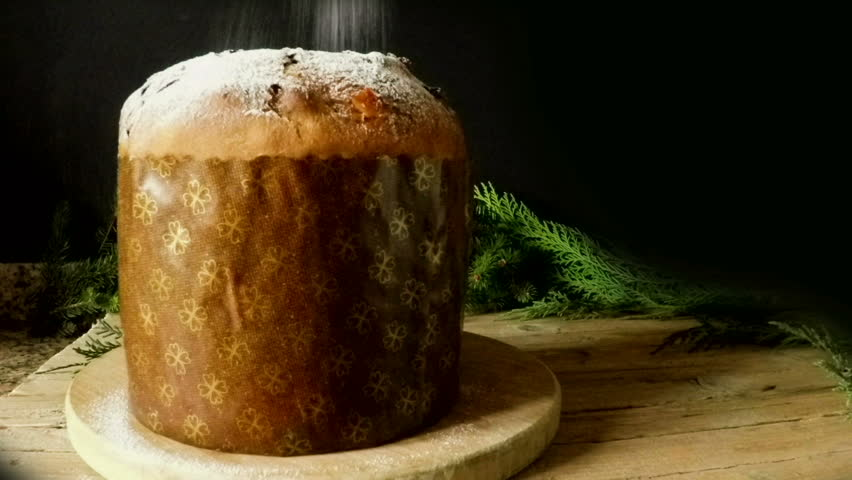slice of bread: (115, 57, 473, 443)
